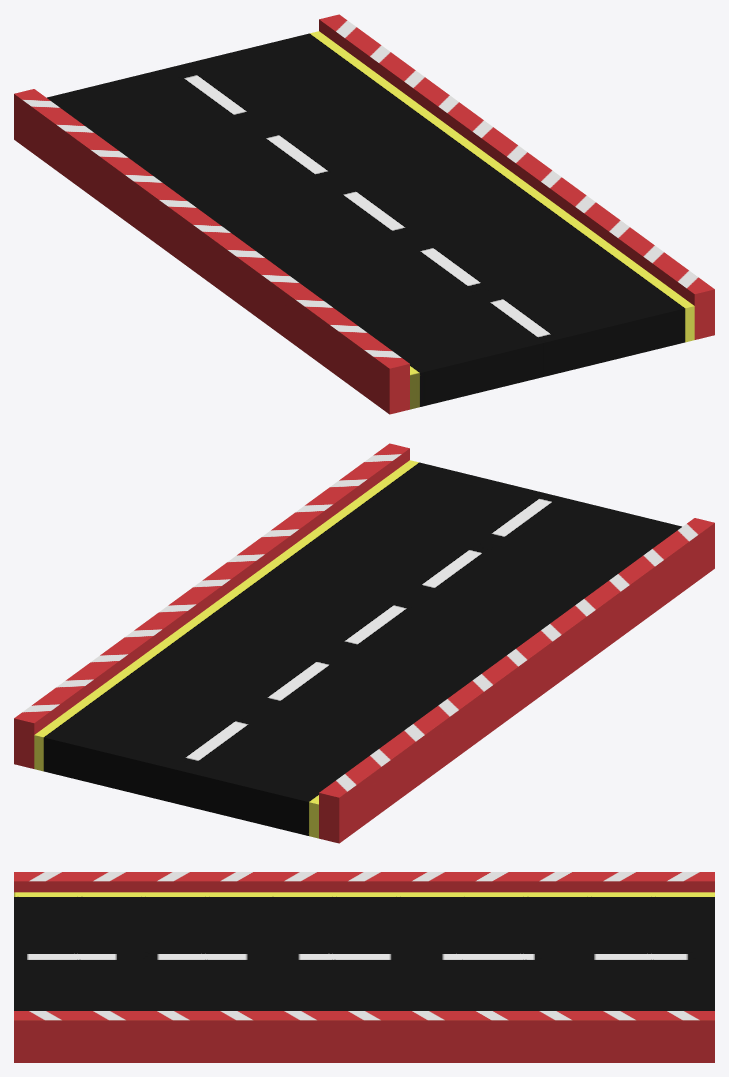
The model's file is New - Straight.fbx.
The picture shows the model from 3 angles, top to bottom: view 1: azimuth 30°, elevation 25°; view 2: azimuth 150°, elevation 25°; view 3: azimuth 270°, elevation 25°; orthographic projection. The views are drawn at different scales.
Visible parts, largest first — view 1: Track - Straight piece001; view 2: Track - Straight piece001; view 3: Track - Straight piece001.
Boxes of the visible parts, x1,y1,x2,y2 form: Track - Straight piece001: (14, 14, 714, 414); Track - Straight piece001: (14, 443, 714, 843); Track - Straight piece001: (14, 872, 714, 1062).
Bounding box in the file's own units: 50 × 6.73 × 100.
